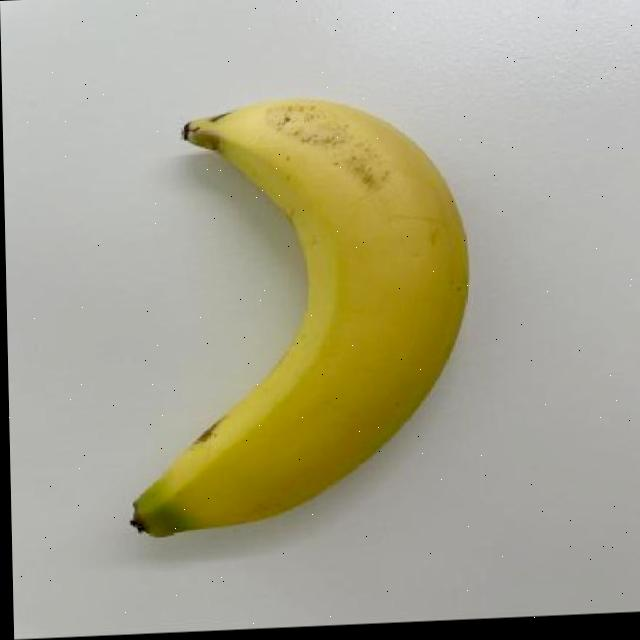banana: (109, 82, 487, 546)
